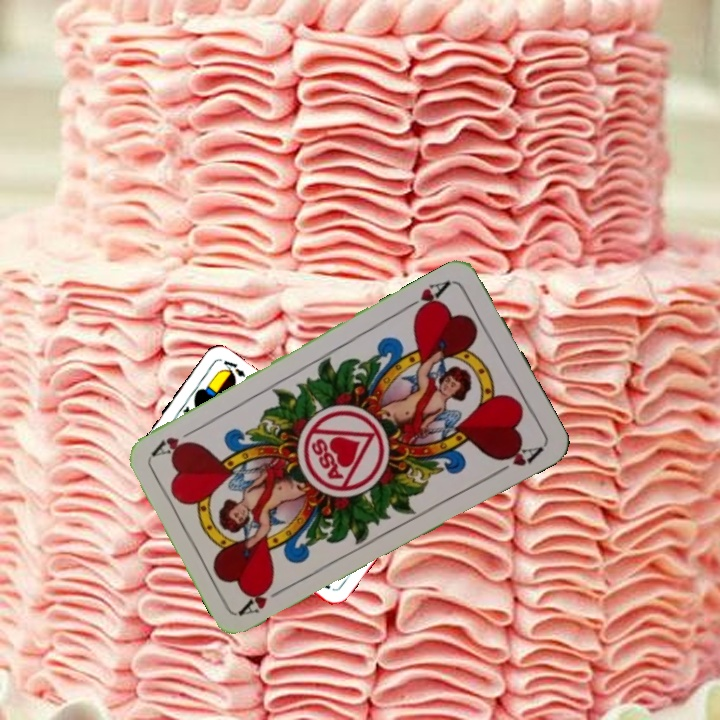HA: (401, 276, 454, 319), (236, 578, 291, 618)
